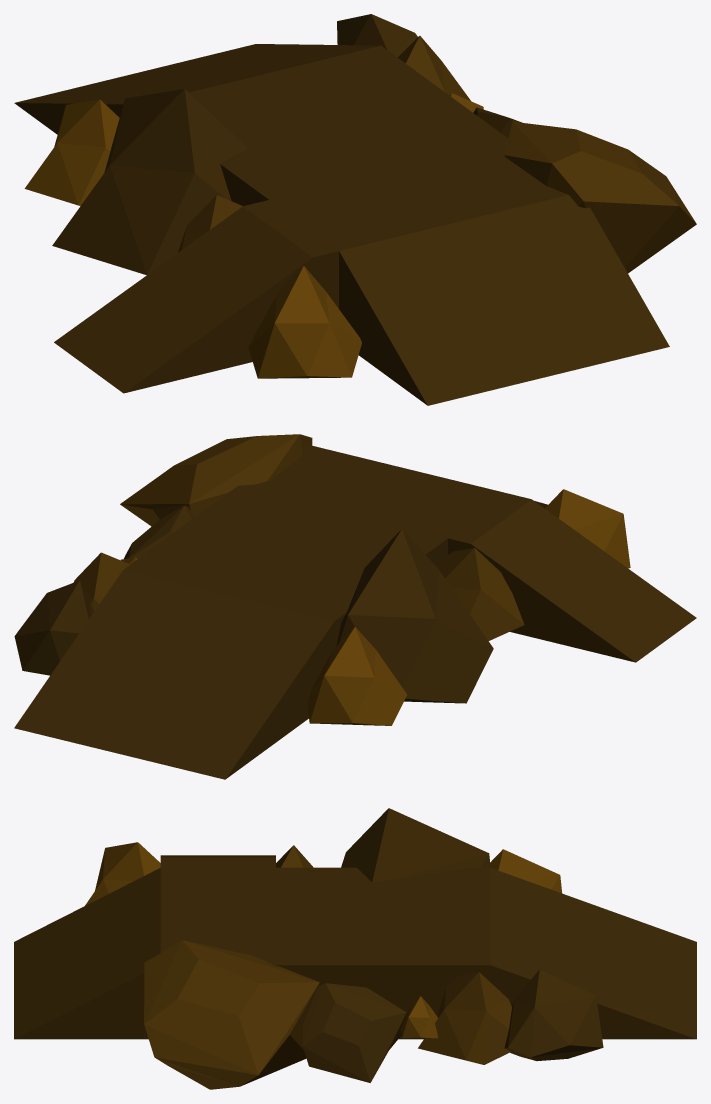
File: piedras.fbx
The picture shows the model from 3 angles, top to bottom: view 1: azimuth 30°, elevation 25°; view 2: azimuth 150°, elevation 25°; view 3: azimuth 270°, elevation 25°; orthographic projection. The views are drawn at different scales.
Parts seen in each view (by area): view 1: Cube, Cube.004, Cube.005, Cube.002, Cube.003, Cube.009, Cube.007, Cube.001; view 2: Cube, Cube.004, Cube.005, Cube.003, Cube.009, Cube.001, Cube.002, Cube.007, Cube.006; view 3: Cube, Cube.005, Cube.006, Cube.009, Cube.004, Cube.007, Cube.002, Cube.003, Cube.008, Cube.001.
Part boxes in pixels (<box>): Cube: <box>14,44,669,405</box>; Cube.004: <box>52,89,247,275</box>; Cube.005: <box>504,121,696,273</box>; Cube.002: <box>248,266,361,378</box>; Cube.003: <box>24,99,119,205</box>; Cube.009: <box>337,14,417,57</box>; Cube.007: <box>398,36,470,100</box>; Cube.001: <box>178,195,242,252</box>; Cube: <box>14,445,696,779</box>; Cube.004: <box>336,529,493,703</box>; Cube.005: <box>120,434,312,526</box>; Cube.003: <box>307,627,406,725</box>; Cube.009: <box>14,580,94,675</box>; Cube.001: <box>440,548,524,640</box>; Cube.002: <box>545,489,630,568</box>; Cube.007: <box>73,552,130,611</box>; Cube.006: <box>124,505,195,558</box>; Cube: <box>14,855,696,1039</box>; Cube.005: <box>144,940,319,1089</box>; Cube.006: <box>303,983,406,1082</box>; Cube.009: <box>504,969,603,1061</box>; Cube.004: <box>341,808,490,882</box>; Cube.007: <box>418,972,511,1064</box>; Cube.002: <box>85,842,160,905</box>; Cube.003: <box>490,849,562,893</box>; Cube.008: <box>400,996,437,1038</box>; Cube.001: <box>276,845,313,867</box>.
Size of the model in its own units: 1402 by 490 by 1669.
